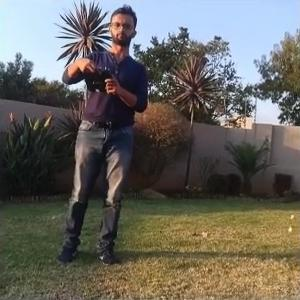follow: (52, 1, 151, 273)
